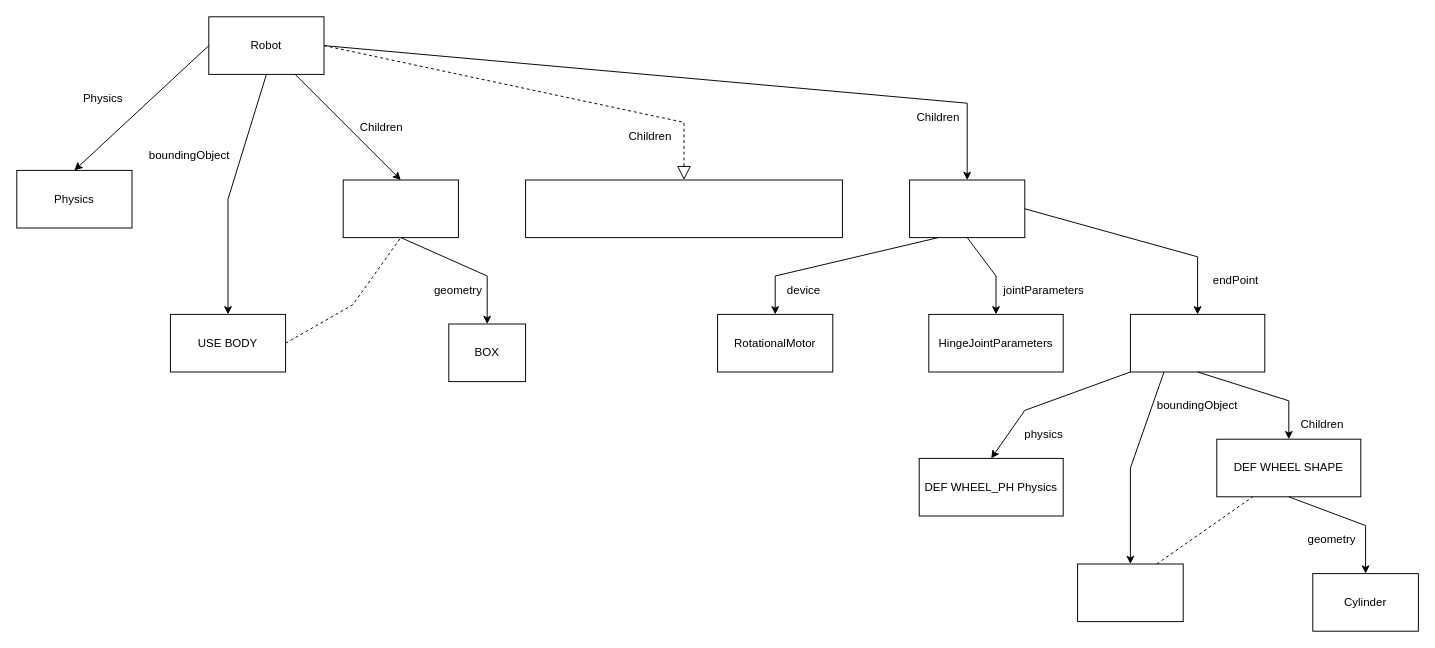
Image size: 1435x648. Some labels were removed from this diagram. Each missing label, with the centre of its shape:
"DEF BODY SHAPE" belongs at point (400, 208).
"DEF WHEEL1 Solid" belongs at point (1197, 342).
"HingeJoint" belongs at point (967, 208).
"Other wheels (using WHEEL and WHEEL_PH)" belongs at point (683, 208).
"USE WHEEL" belongs at point (1130, 592).
